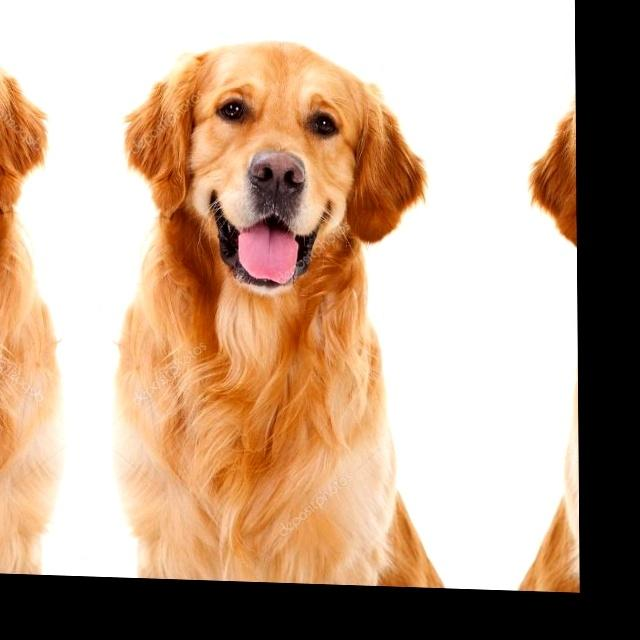dog: (100, 9, 452, 588), (505, 22, 580, 592), (0, 5, 72, 576)
